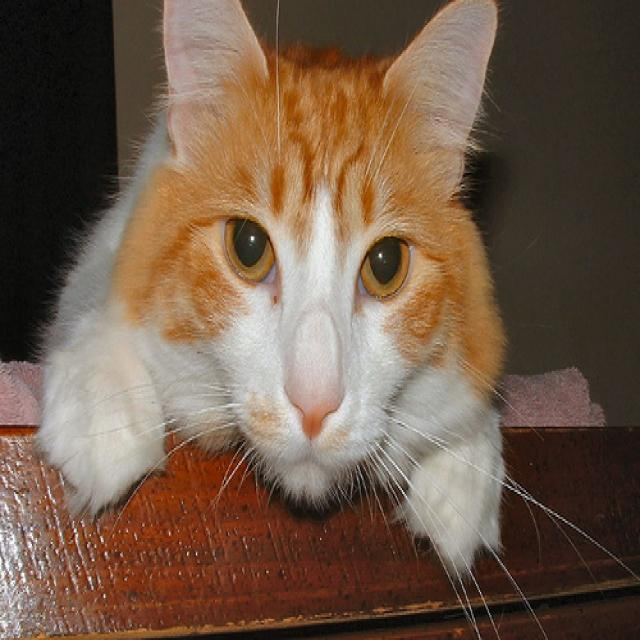left eye: (357, 230, 412, 300)
